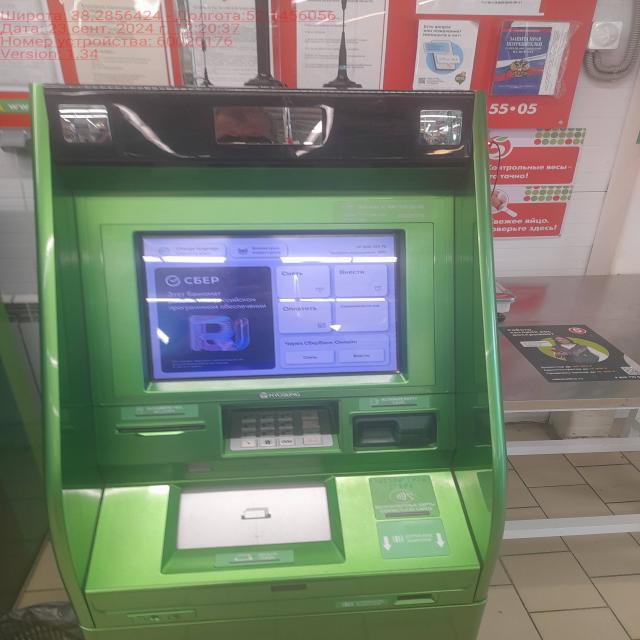bank: (34, 79, 505, 640)
